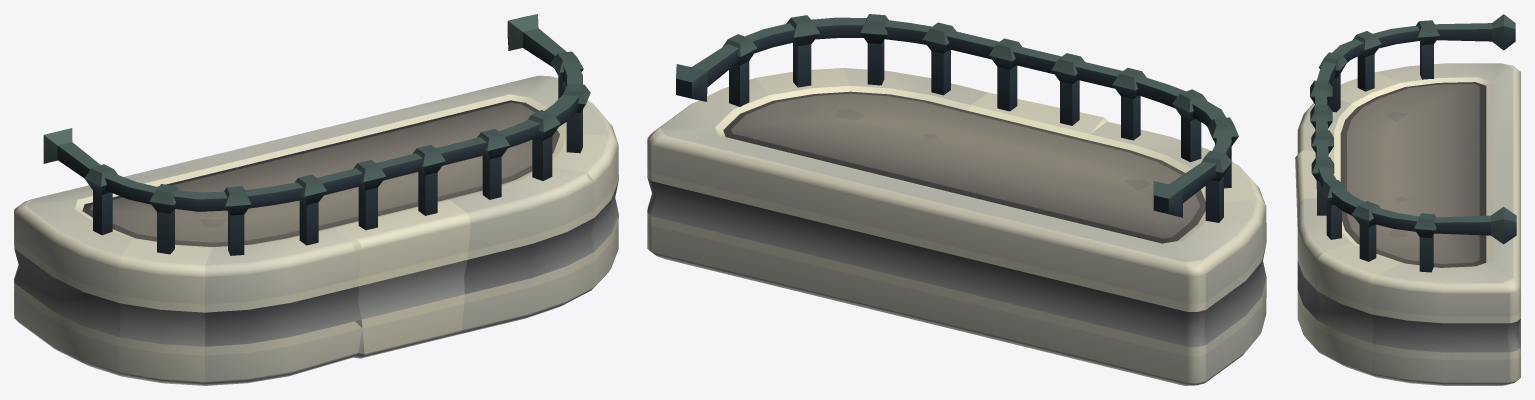
Rendered from balcony3_LOD_setup.fbx.
3 renders of one model, left to right at view 1: azimuth 30°, elevation 25°; view 2: azimuth 150°, elevation 25°; view 3: azimuth 270°, elevation 25°, orthographic. The views are drawn at different scales.
Visible parts, largest first — view 1: balcony3_LOD0; view 2: balcony3_LOD0; view 3: balcony3_LOD0.
Part boxes in pixels (<box>): balcony3_LOD0: <box>14,14,618,385</box>; balcony3_LOD0: <box>647,14,1266,385</box>; balcony3_LOD0: <box>1295,14,1520,385</box>.
Size of what is drawn, in the model's own units: 506 by 167 by 213.
